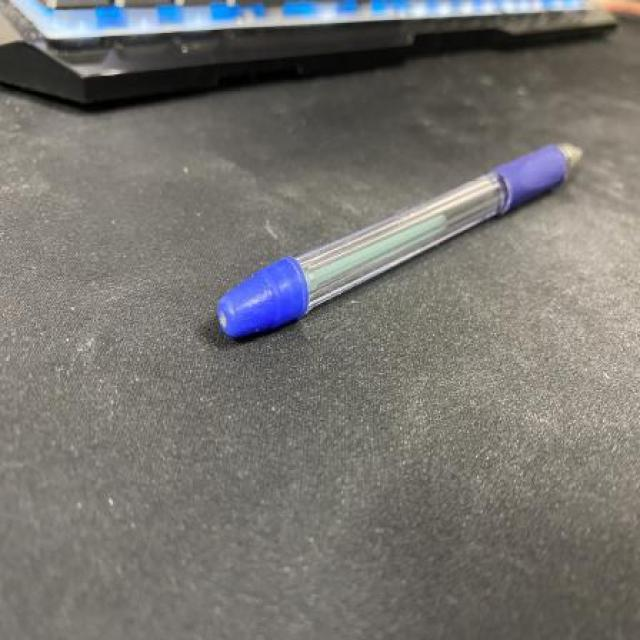pen: (217, 142, 587, 342)
